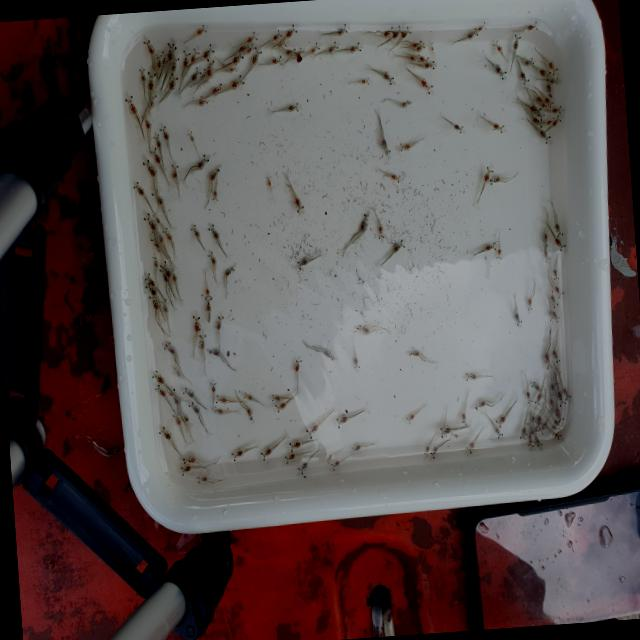babyshrimp: (354, 207, 368, 239), (488, 59, 507, 82), (122, 90, 138, 117), (401, 404, 418, 428), (417, 75, 435, 97), (229, 443, 244, 466), (140, 158, 155, 181), (226, 72, 243, 92), (283, 21, 300, 40), (509, 31, 521, 57), (334, 410, 348, 432), (149, 188, 163, 210), (206, 162, 220, 184), (200, 40, 214, 62), (194, 151, 209, 171), (379, 135, 391, 160), (248, 45, 261, 67), (304, 421, 319, 440), (209, 79, 224, 98), (392, 236, 406, 256), (158, 260, 170, 283), (188, 65, 201, 86), (333, 18, 348, 36), (149, 143, 161, 165), (142, 38, 154, 60), (143, 211, 156, 231), (180, 47, 190, 73), (346, 39, 362, 55), (165, 40, 176, 63), (259, 442, 270, 464), (206, 222, 218, 242), (536, 68, 551, 84), (230, 49, 244, 66), (552, 236, 566, 253), (161, 338, 174, 356), (131, 179, 144, 197), (193, 22, 206, 40), (389, 23, 402, 41), (296, 457, 307, 478), (146, 69, 156, 92), (490, 120, 505, 135), (152, 383, 166, 399), (438, 421, 451, 438), (158, 423, 171, 440), (150, 367, 163, 384), (161, 225, 173, 243), (287, 438, 301, 453), (158, 296, 168, 317), (295, 255, 309, 270), (537, 128, 551, 143), (293, 195, 304, 214), (522, 19, 538, 32), (143, 282, 155, 299), (272, 53, 284, 70), (491, 38, 503, 55), (552, 284, 564, 301), (189, 46, 199, 66), (142, 271, 156, 285), (285, 100, 299, 114), (420, 58, 434, 72), (388, 170, 402, 184), (473, 397, 486, 412), (270, 27, 283, 42), (381, 73, 394, 88), (482, 238, 495, 253), (322, 346, 334, 362), (158, 123, 168, 142), (169, 53, 179, 72), (204, 59, 214, 78), (463, 439, 474, 456), (170, 410, 181, 427), (205, 250, 216, 267), (552, 221, 563, 238), (413, 37, 426, 51), (396, 140, 409, 154), (450, 122, 463, 136), (487, 173, 501, 186), (493, 413, 505, 428), (492, 423, 502, 441), (188, 224, 200, 239), (482, 166, 492, 184), (545, 60, 557, 75), (560, 386, 571, 402), (540, 348, 548, 370), (349, 440, 360, 456), (283, 452, 294, 468), (292, 358, 303, 374), (197, 331, 205, 353), (554, 405, 563, 424), (550, 346, 559, 365), (167, 73, 177, 90), (512, 311, 522, 328), (180, 385, 193, 398), (381, 24, 394, 37), (355, 324, 369, 336), (399, 24, 411, 38), (527, 105, 541, 117), (293, 45, 304, 60), (466, 25, 477, 40), (215, 312, 224, 330), (551, 112, 560, 130), (518, 70, 528, 86), (178, 463, 190, 476), (195, 95, 208, 107), (417, 53, 429, 66), (181, 453, 195, 464), (172, 365, 183, 379), (542, 96, 553, 110), (556, 390, 565, 407), (148, 295, 157, 312), (550, 266, 559, 283), (541, 246, 550, 263), (210, 185, 218, 204), (137, 66, 145, 85), (329, 457, 338, 473), (191, 314, 199, 332), (185, 129, 194, 145), (154, 52, 162, 70), (308, 41, 320, 53), (358, 74, 370, 86), (464, 370, 476, 382), (520, 55, 533, 66), (550, 102, 561, 115), (166, 387, 176, 401), (550, 309, 560, 323), (524, 389, 532, 406), (532, 392, 541, 407), (428, 445, 437, 460), (244, 405, 253, 420), (170, 160, 177, 179), (551, 418, 562, 430), (187, 400, 198, 412), (212, 404, 223, 416), (214, 393, 226, 404), (224, 265, 235, 277), (225, 63, 237, 74), (246, 31, 257, 43), (548, 431, 561, 441), (533, 435, 543, 448), (206, 347, 219, 357), (328, 41, 338, 54), (476, 18, 486, 31), (518, 425, 526, 441), (376, 225, 384, 241), (524, 296, 532, 312), (350, 356, 359, 370), (243, 42, 252, 56), (530, 379, 540, 391), (207, 379, 215, 394), (526, 432, 533, 448), (202, 285, 210, 299), (152, 133, 160, 147), (426, 39, 434, 53), (274, 402, 283, 414), (242, 389, 251, 401), (459, 411, 466, 426), (494, 247, 501, 262), (550, 296, 558, 309), (270, 392, 279, 403), (195, 474, 206, 483), (421, 444, 428, 458), (181, 411, 188, 425), (150, 254, 157, 268), (535, 413, 541, 429), (325, 451, 331, 467), (204, 299, 210, 315), (399, 100, 411, 108), (548, 398, 554, 413), (406, 349, 416, 358), (548, 75, 558, 84), (549, 424, 560, 431), (449, 431, 458, 439), (265, 175, 270, 186)
